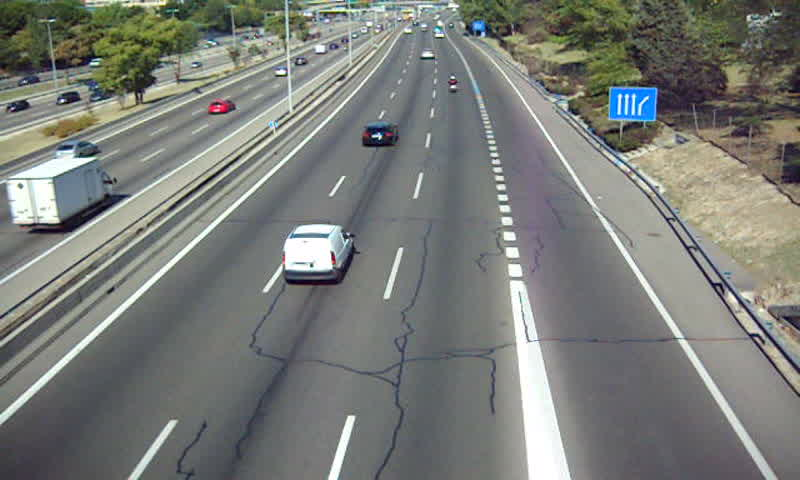car: (360, 124, 398, 148), (420, 50, 435, 61)
motorcycle: (446, 75, 460, 94)
van: (279, 224, 355, 283)
